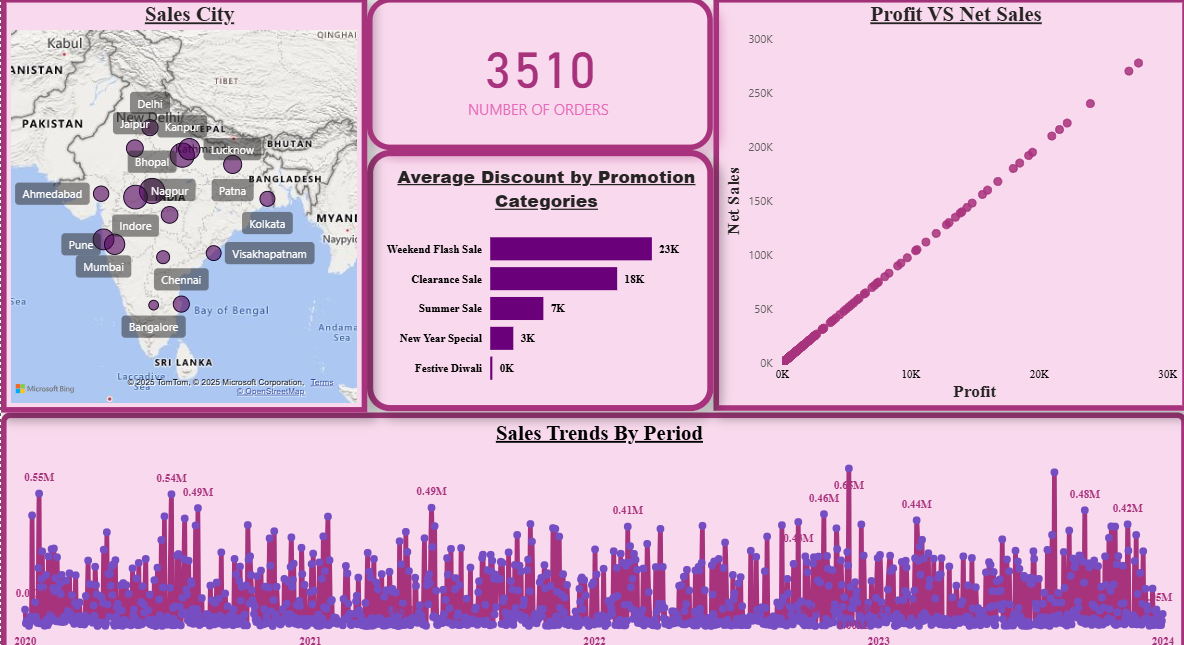

Layout of this report page (visuals, bound fields, positions):
{"tool":"powerbi","page":{"name":"OVERVIEW","canvas":[1280,720],"ordinal":0},"visuals":[{"type":"lineChart","title":" Sales Trends By Period ","fields":{"Y":["Sum(Fact Table.Net Sales       )"],"Category":["Fact Table.Date (dd/mm/yyyy).Variation.Date Hierarchy.Year"]},"box":[0,448.3,1280,271.7],"z":0},{"type":"scatterChart","title":"Profit VS Net Sales       ","fields":{"X":["Fact Table.Profit "],"Y":["Fact Table.Net Sales       "]},"box":[768.3,0,511.7,446.7],"z":1000},{"type":"barChart","title":"Average Discount by Promotion Categories","fields":{"Y":["Avg(Fact Table.Discount)"],"Category":["Dim Promotion.Promotion Name"]},"box":[395.1,165.2,374,281.7],"z":2000},{"type":"map","title":"Sales City","fields":{"Category":["Dim Customers.City"],"Size":["Sum(Fact Table.Net Sales       )"]},"box":[0,0,395,448.3],"z":3000},{"type":"card","fields":{"Values":["Count(Fact Table.Order ID)"]},"box":[395,0,373.3,165],"z":4000}]}

Visuals, with their boxes on the page's 1280x720 design canvas (x1, y1, x2, y2). These are canvas units, not pixel positions in the 1184x645 screenshot, which may show the page scaled, cropped or inside an application window:
" Sales Trends By Period " lineChart: 0:448:1280:720
"Profit VS Net Sales       " scatterChart: 768:0:1280:447
"Average Discount by Promotion Categories" barChart: 395:165:769:447
"Sales City" map: 0:0:395:448
card - Count(Fact Table.Order ID): 395:0:768:165
